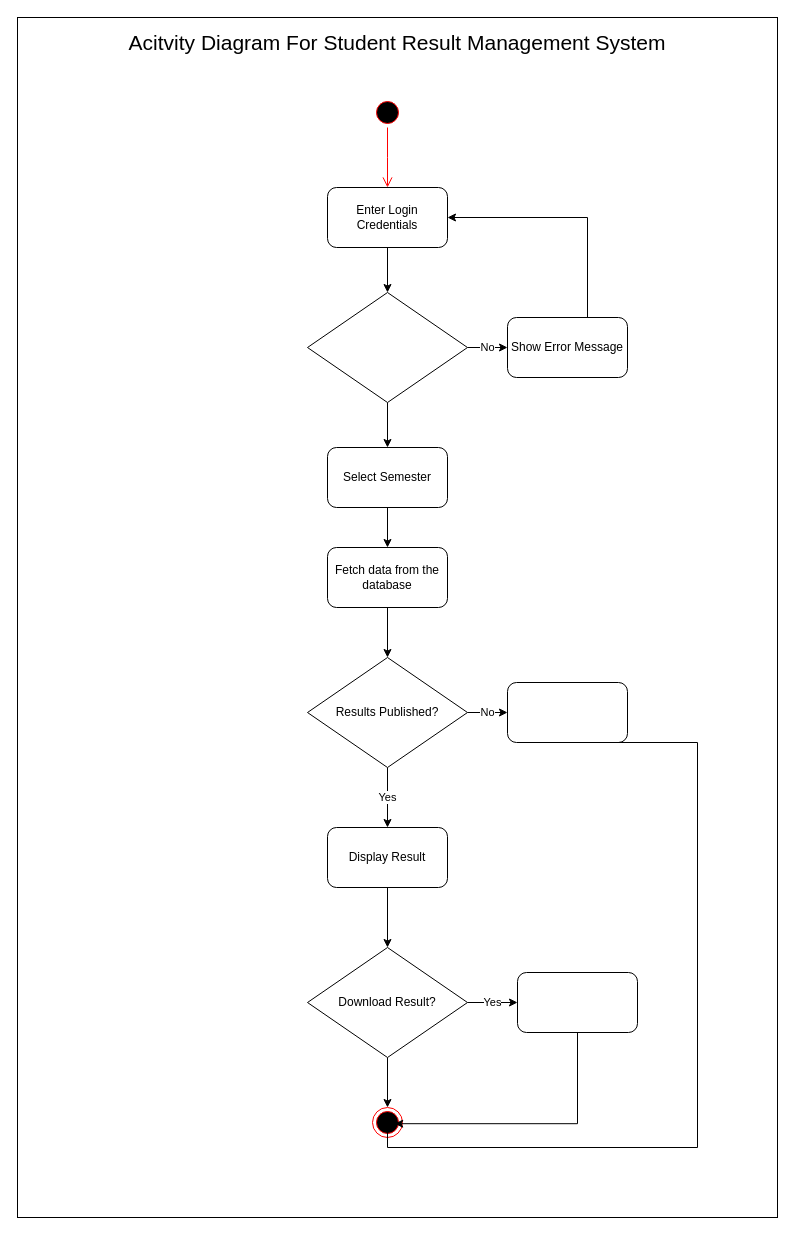
The diagram is 795 pixels wide and 1235 high, and some of its shapes have lost their labels. Each missing label, with the centre of its shape:
Credentials Valid?: the point at 387,347
Generate and download pdf: the point at 577,1002
Show result not available: the point at 567,712
